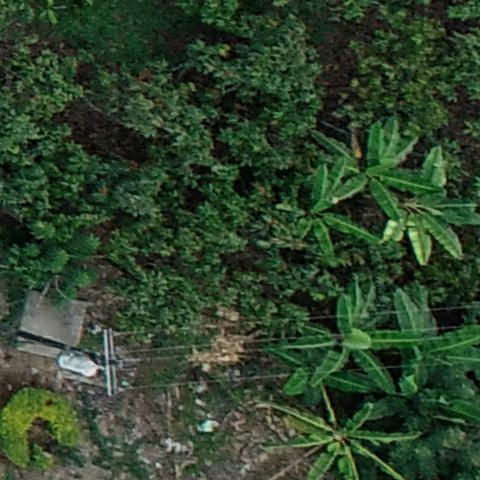Banana-plant: (290, 268, 444, 392), (252, 394, 424, 480), (302, 120, 444, 221), (368, 140, 480, 266), (275, 153, 389, 270), (374, 285, 480, 397), (264, 320, 380, 402)
